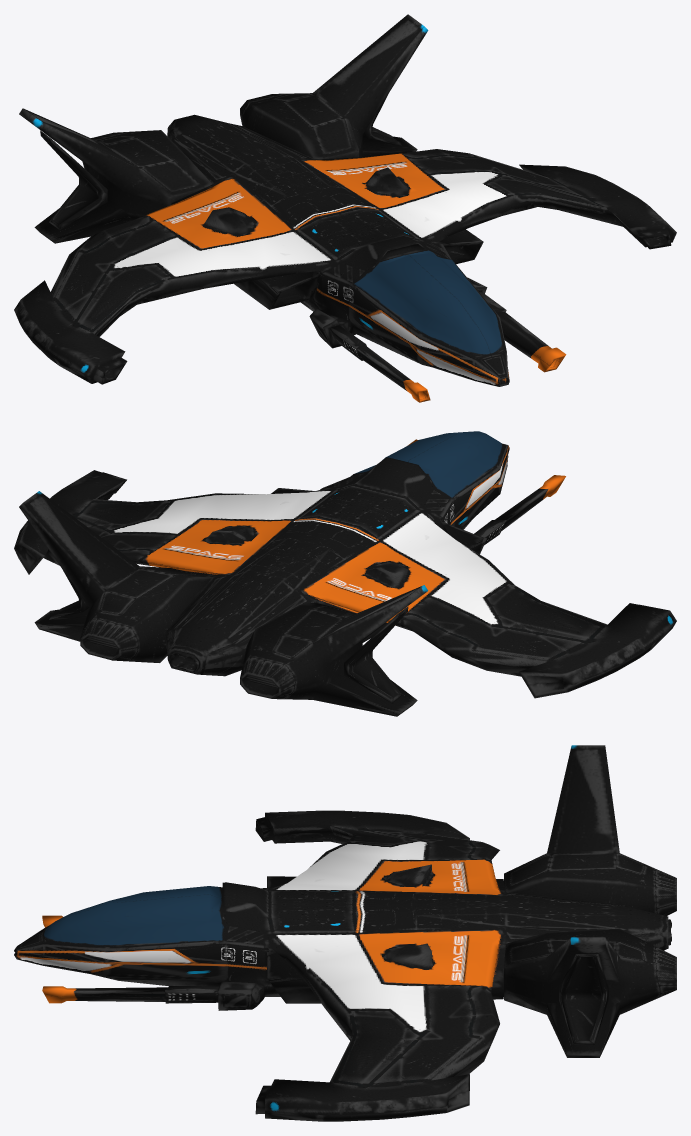
The model's file is DeathRow.obj.
3 renders of one model, top to bottom at view 1: azimuth 30°, elevation 25°; view 2: azimuth 150°, elevation 25°; view 3: azimuth 270°, elevation 25°, orthographic. The views are drawn at different scales.
Visible parts, largest first — view 1: DeathRow_Low_Cube.001; view 2: DeathRow_Low_Cube.001; view 3: DeathRow_Low_Cube.001.
Part boxes in pixels (x1=…): DeathRow_Low_Cube.001: x1=14, y1=14, x2=676, y2=402; DeathRow_Low_Cube.001: x1=14, y1=431, x2=676, y2=716; DeathRow_Low_Cube.001: x1=14, y1=745, x2=676, y2=1121.
Size of the model in its own units: 12.34 by 2.66 by 11.57.
1 material, 1 textured.
